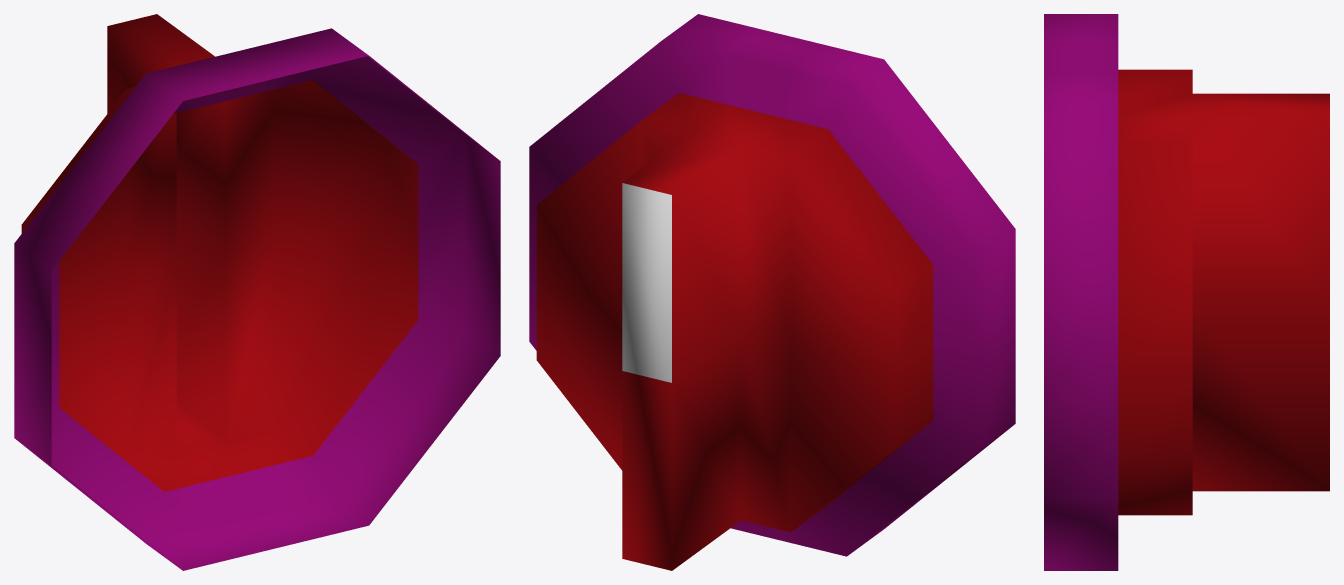
The model's file is Controls_Switch_01.fbx.
The picture shows the model from 3 angles, left to right: view 1: azimuth 30°, elevation 25°; view 2: azimuth 150°, elevation 25°; view 3: azimuth 270°, elevation 25°; orthographic projection.
Parts seen in each view (by area): view 1: SubwayCart_01_Controls_Switch_low; view 2: SubwayCart_01_Controls_Switch_low; view 3: SubwayCart_01_Controls_Switch_low.
Part boxes in pixels (x1,y1,x2,y2): SubwayCart_01_Controls_Switch_low: (14, 14, 500, 570); SubwayCart_01_Controls_Switch_low: (529, 14, 1015, 570); SubwayCart_01_Controls_Switch_low: (1044, 14, 1329, 570).
Size of the model in its own units: 0.0346 by 0.0346 by 0.0192.
